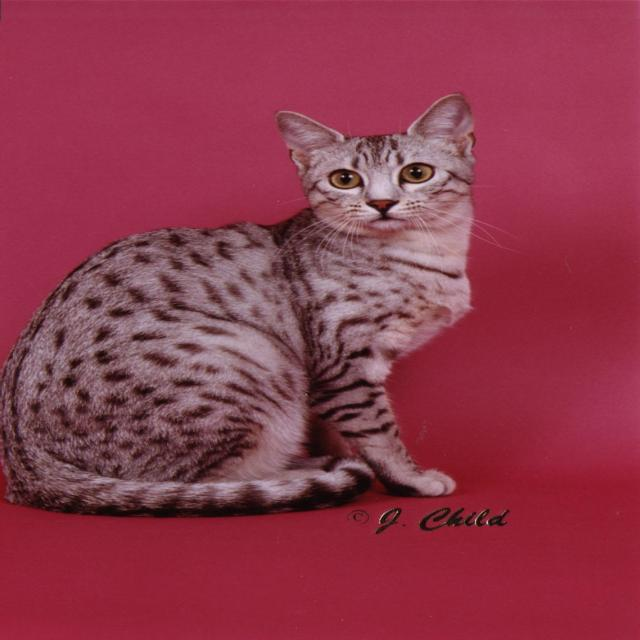Egyptian_Mau: (274, 92, 475, 230)
